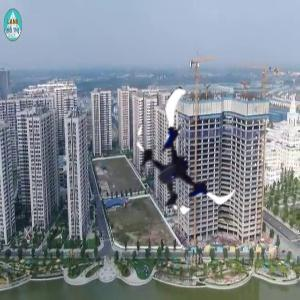drone: (124, 104, 247, 227)
